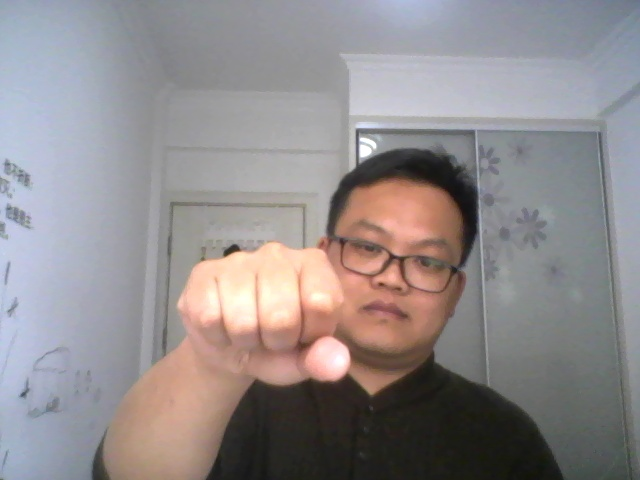Yes: (171, 238, 365, 398)
